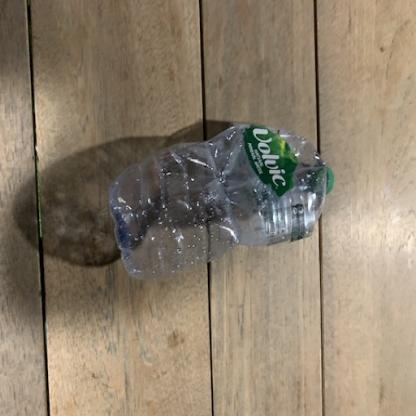trash: (108, 120, 334, 281)
